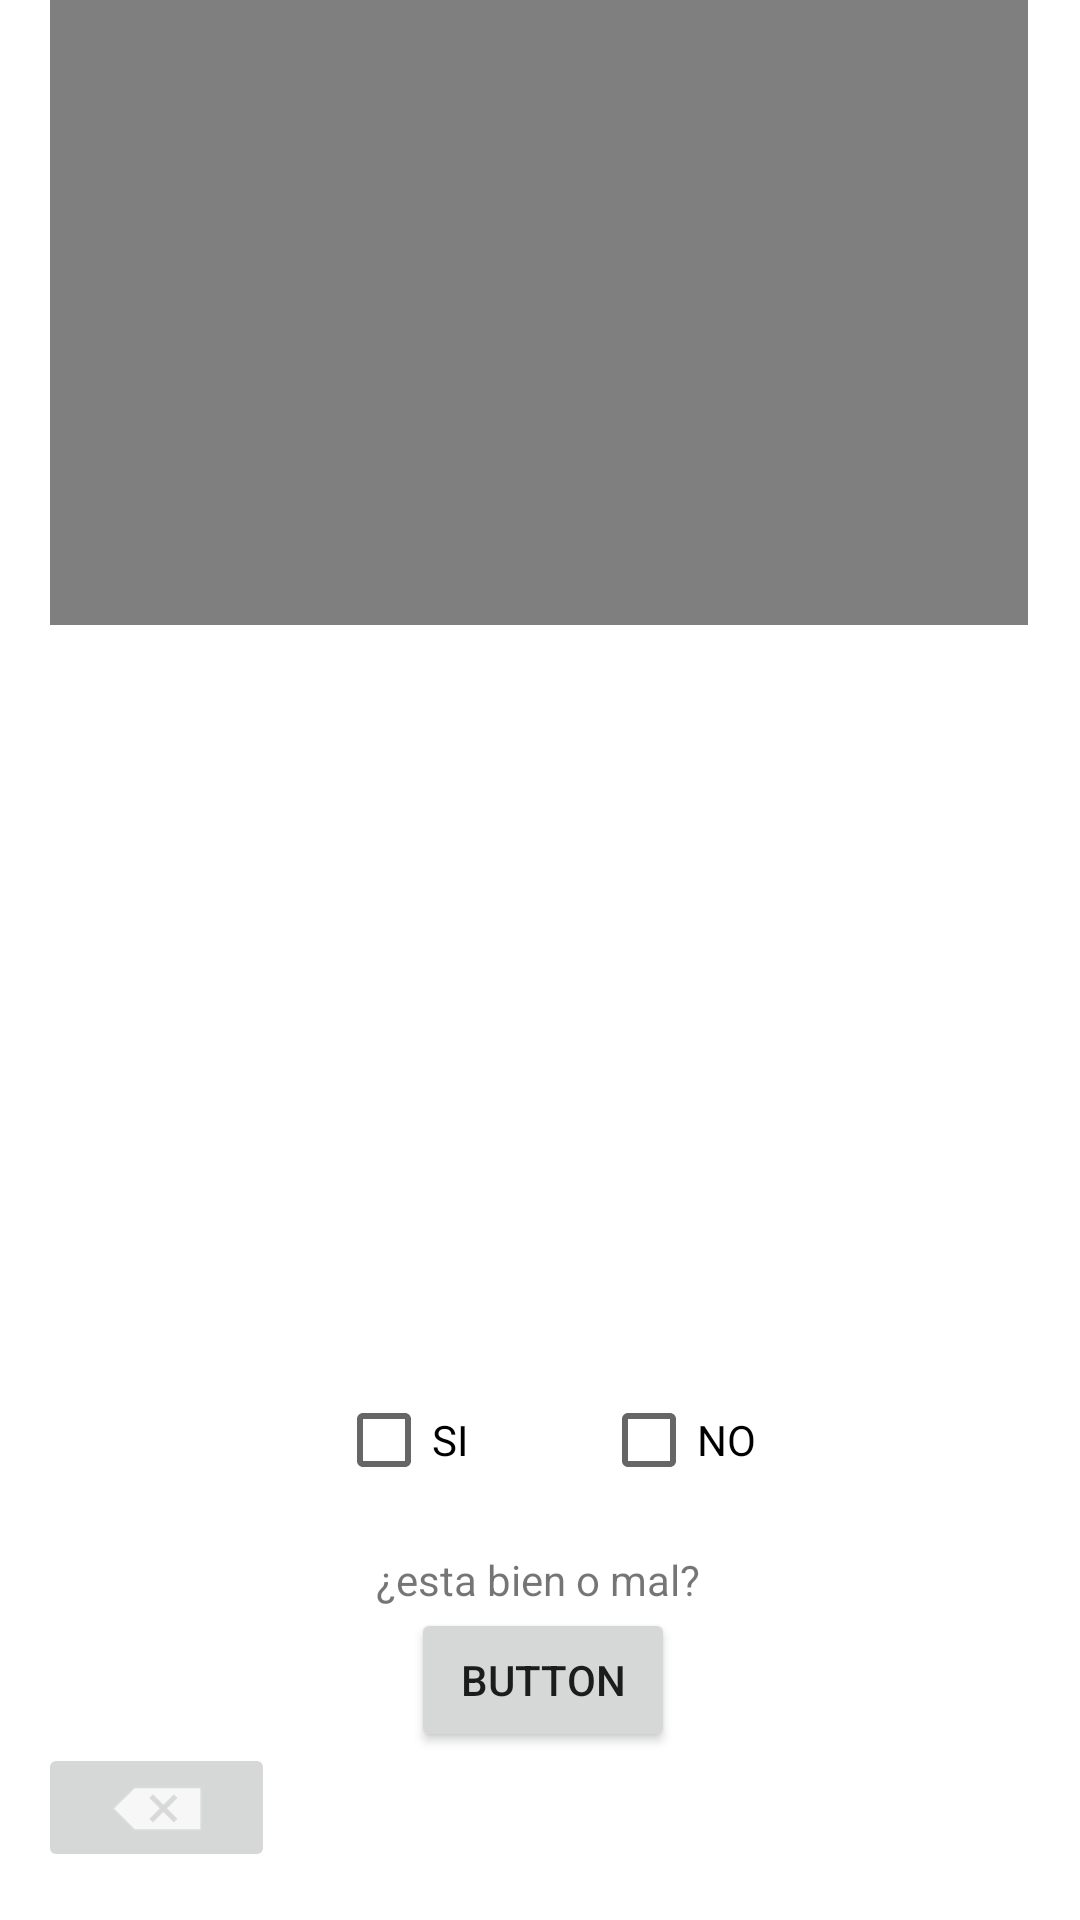

Screen size 1080w x 1920h. Icon name, then its box in pixels as BBox(x1, y1, x2, y2):
delete: BBox(50, 1761, 263, 1854)
